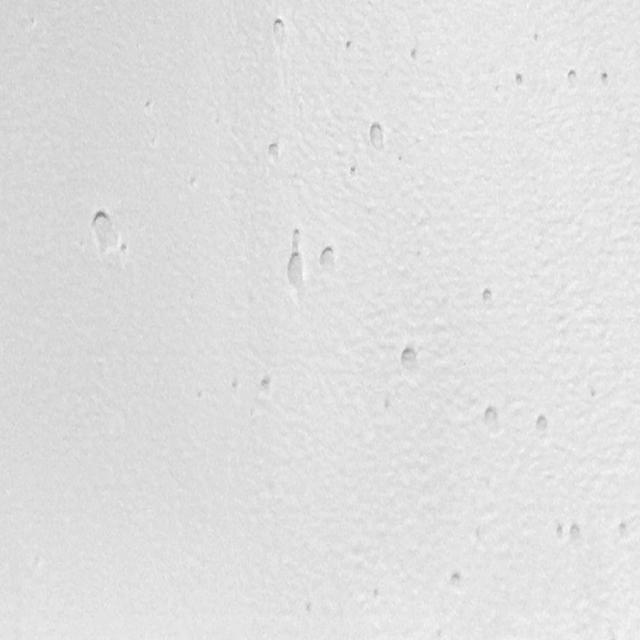pin holes: (82, 202, 121, 270), (283, 247, 308, 288), (398, 344, 424, 376), (367, 120, 391, 154), (318, 244, 341, 274), (268, 15, 290, 45), (482, 402, 504, 431), (532, 412, 553, 440), (256, 373, 277, 398), (264, 140, 285, 165), (478, 284, 498, 308), (565, 65, 583, 90), (288, 222, 306, 247), (512, 70, 531, 92), (551, 521, 570, 542), (568, 522, 586, 544), (616, 518, 633, 540), (448, 570, 466, 590), (598, 71, 613, 91), (119, 241, 132, 259), (303, 600, 316, 618), (342, 40, 357, 55), (408, 48, 422, 64), (230, 377, 243, 393), (371, 586, 384, 601), (142, 97, 154, 113), (347, 165, 359, 180), (533, 30, 545, 44)
